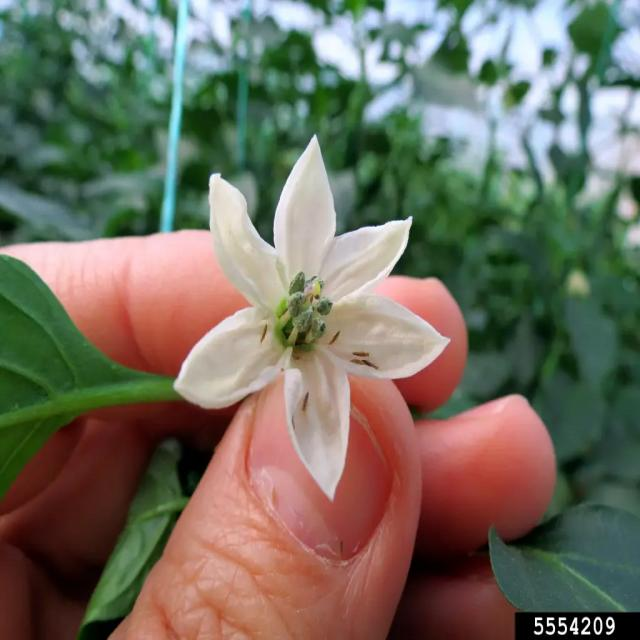Thrip-Adult-: (323, 326, 346, 349), (257, 321, 272, 349), (361, 356, 384, 374), (300, 385, 313, 413), (350, 347, 372, 358)
